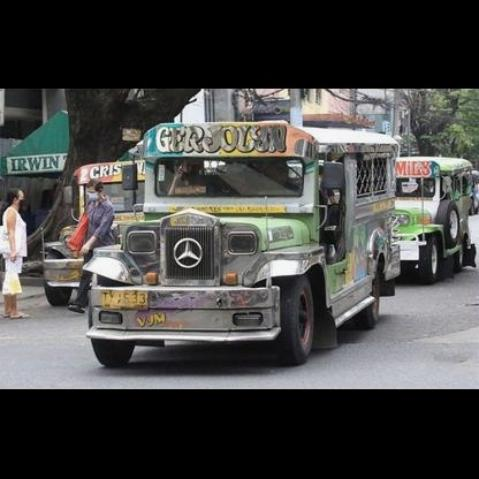jeepney: (104, 103, 391, 369), (383, 143, 479, 278), (38, 151, 122, 299)
